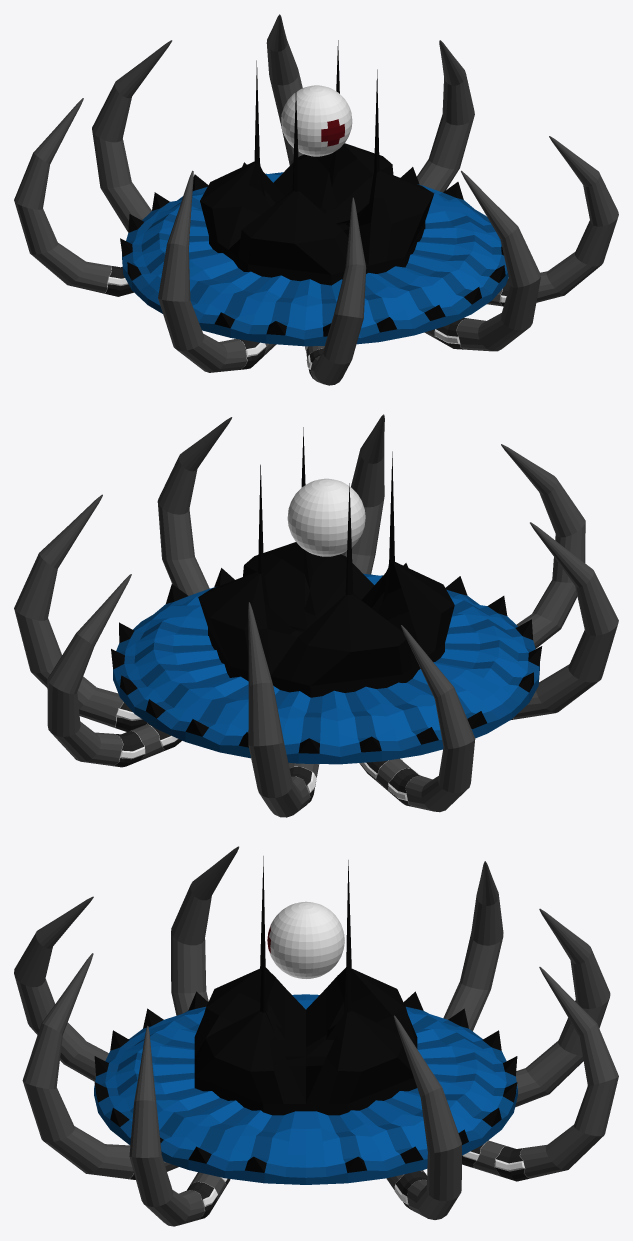
File: Endboss2ship.fbx
3 views of the same model, one above another, from view 1: azimuth 30°, elevation 25°; view 2: azimuth 150°, elevation 25°; view 3: azimuth 270°, elevation 25° (orthographic). The views are drawn at different scales.
Parts seen in each view (by area): view 1: Cylinder, Cube, Cylinder.016, Cylinder.013, Cylinder.010, Cylinder.012, Cylinder.015, Cylinder.014, Cylinder.009, Sphere, Cylinder.011; view 2: Cylinder, Cube, Cylinder.011, Cylinder.009, Cylinder.010, Cylinder.012, Cylinder.016, Cylinder.014, Cylinder.015, Sphere, Cylinder.013; view 3: Cylinder, Cube, Cylinder.011, Cylinder.013, Cylinder.015, Cylinder.009, Cylinder.012, Cylinder.014, Sphere, Cylinder.016, Cylinder.010.
Part boxes in pixels (x1,y1,x2,y2): Cylinder: (120, 162, 508, 346); Cube: (200, 40, 433, 285); Cylinder.016: (158, 170, 276, 372); Cylinder.013: (424, 170, 540, 351); Cylinder.010: (14, 98, 133, 296); Cylinder.012: (92, 40, 172, 231); Cylinder.015: (487, 136, 618, 306); Cylinder.014: (305, 197, 366, 385); Cylinder.009: (417, 40, 474, 192); Sphere: (281, 85, 352, 156); Cylinder.011: (266, 14, 303, 165); Cylinder: (111, 563, 542, 764); Cube: (198, 427, 454, 697); Cylinder.011: (47, 574, 181, 767); Cylinder.009: (14, 494, 147, 731); Cylinder.010: (359, 625, 475, 812); Cylinder.012: (248, 602, 319, 817); Cylinder.016: (510, 522, 618, 720); Cylinder.014: (501, 444, 585, 648); Cylinder.015: (157, 417, 232, 595); Sphere: (287, 478, 365, 556); Cylinder.013: (341, 414, 384, 574); Cylinder: (94, 991, 517, 1184); Cube: (194, 856, 417, 1115); Cylinder.011: (462, 967, 618, 1181); Cylinder.013: (22, 953, 178, 1179); Cylinder.015: (129, 1025, 230, 1226); Cylinder.009: (386, 1015, 461, 1219); Cylinder.012: (515, 908, 610, 1107); Cylinder.014: (14, 896, 108, 1081); Sphere: (267, 901, 344, 978); Cylinder.016: (171, 846, 239, 1015); Cylinder.010: (443, 861, 503, 1031).
Bounding box in the file's own units: 4886 × 2598 × 5327.
